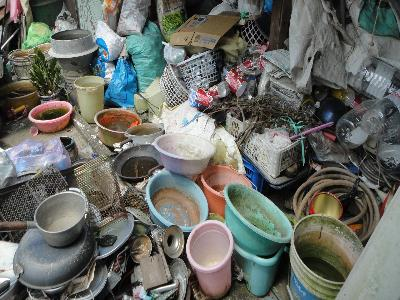bowl: (13, 225, 97, 291), (224, 183, 293, 256), (146, 173, 208, 233), (34, 190, 90, 249), (153, 132, 216, 174), (112, 143, 165, 183), (49, 28, 100, 69), (90, 107, 142, 144), (28, 99, 72, 132)
bucket: (290, 212, 365, 300), (186, 219, 233, 299), (336, 96, 392, 150), (74, 74, 105, 125), (3, 80, 41, 116)
plastic_bag: (124, 21, 168, 94), (105, 56, 139, 110)
